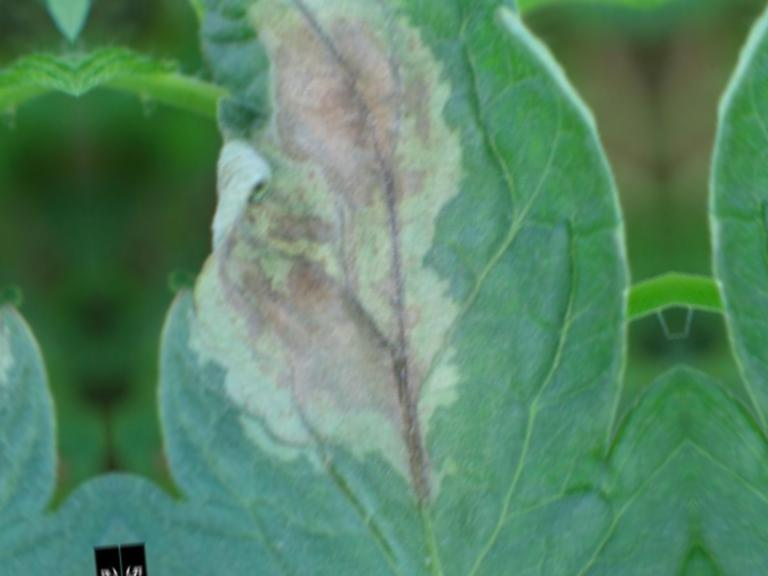Tomato leaf late blight: (106, 0, 670, 576)
